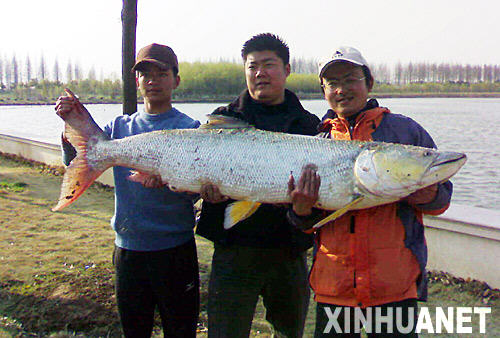fish: (49, 86, 468, 233)
